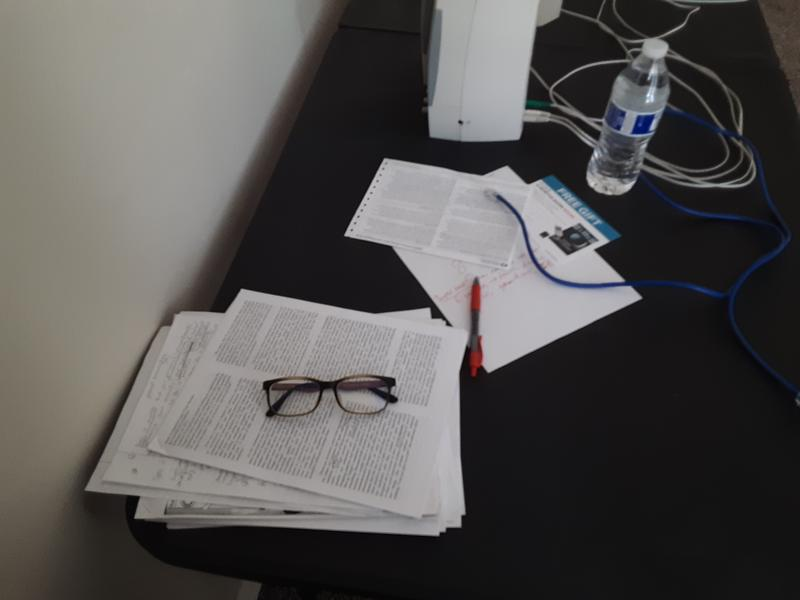glasses: (259, 372, 402, 420)
